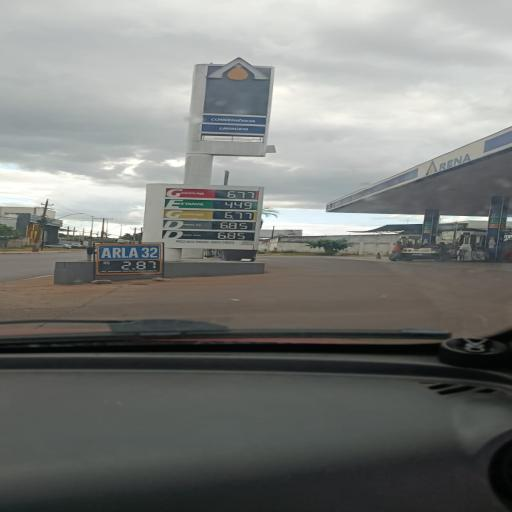GASOLINA AD: (165, 210, 209, 218)
GASOLINA C: (163, 189, 209, 199)
S500: (163, 230, 206, 240)
placa: (142, 187, 262, 251)
